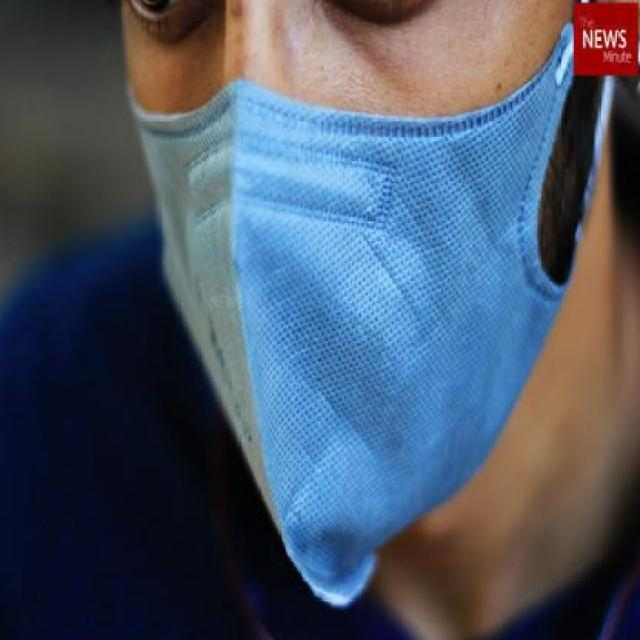B3: (118, 32, 613, 610)
